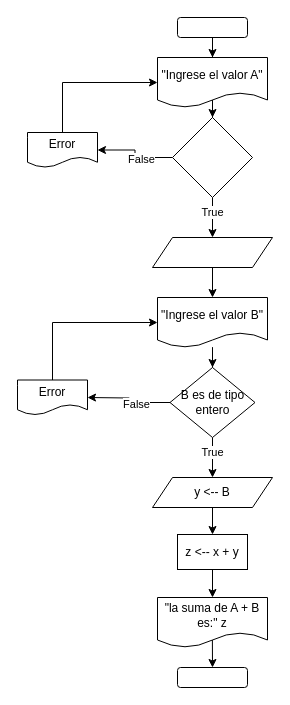
Some shapes in this 290 by 705 pixel diagram are drawn without their labels. The centre of each missing label's shape, as x and y in pixels:
"A es de tipo entero" goes at (x=212, y=157).
"fin" goes at (x=212, y=677).
"inicio" goes at (x=212, y=27).
"x <-- A" goes at (x=212, y=252).
